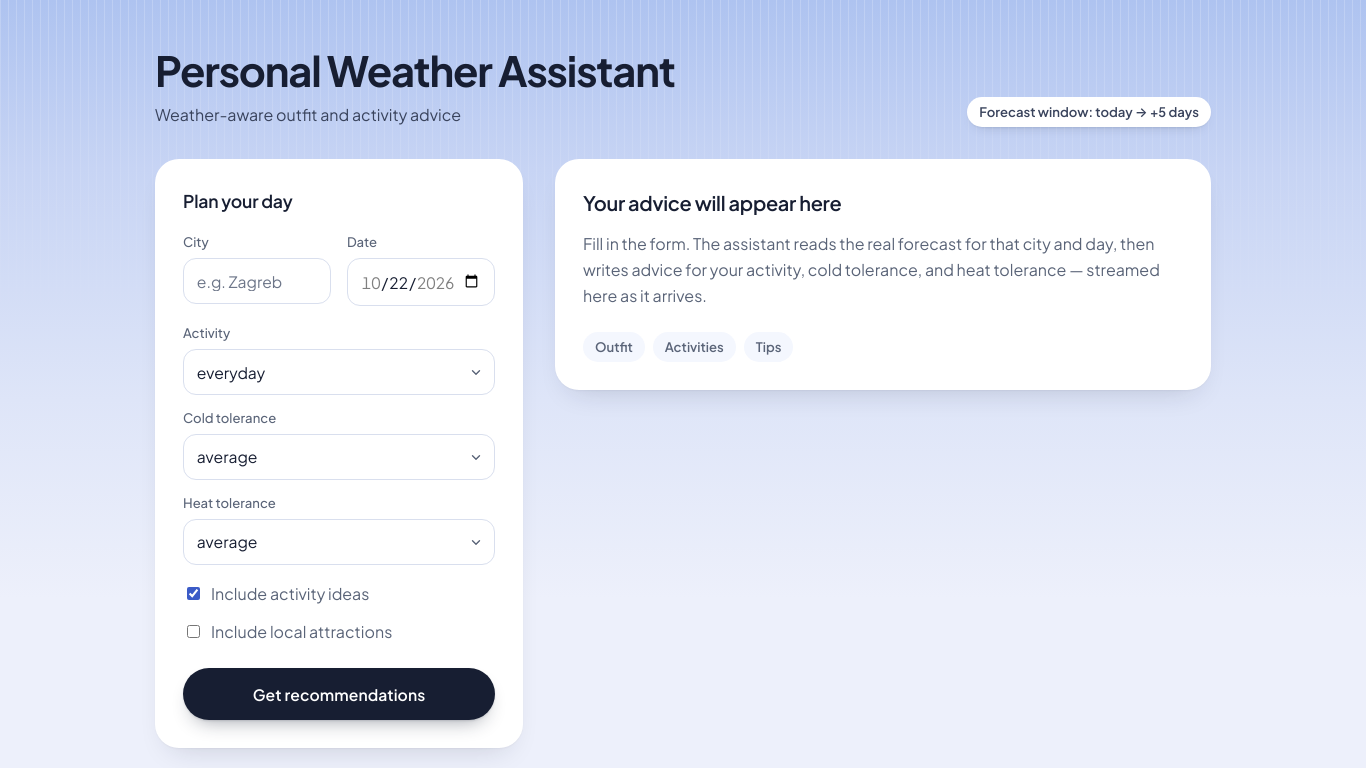
Test case: App profile chips › shows the submitted profile with the day recommendation
The image size is (1366, 768).
Type "Zagreb" into the field labelled "City" at (257, 281), box top-left (183, 258), bottom-right (331, 304)
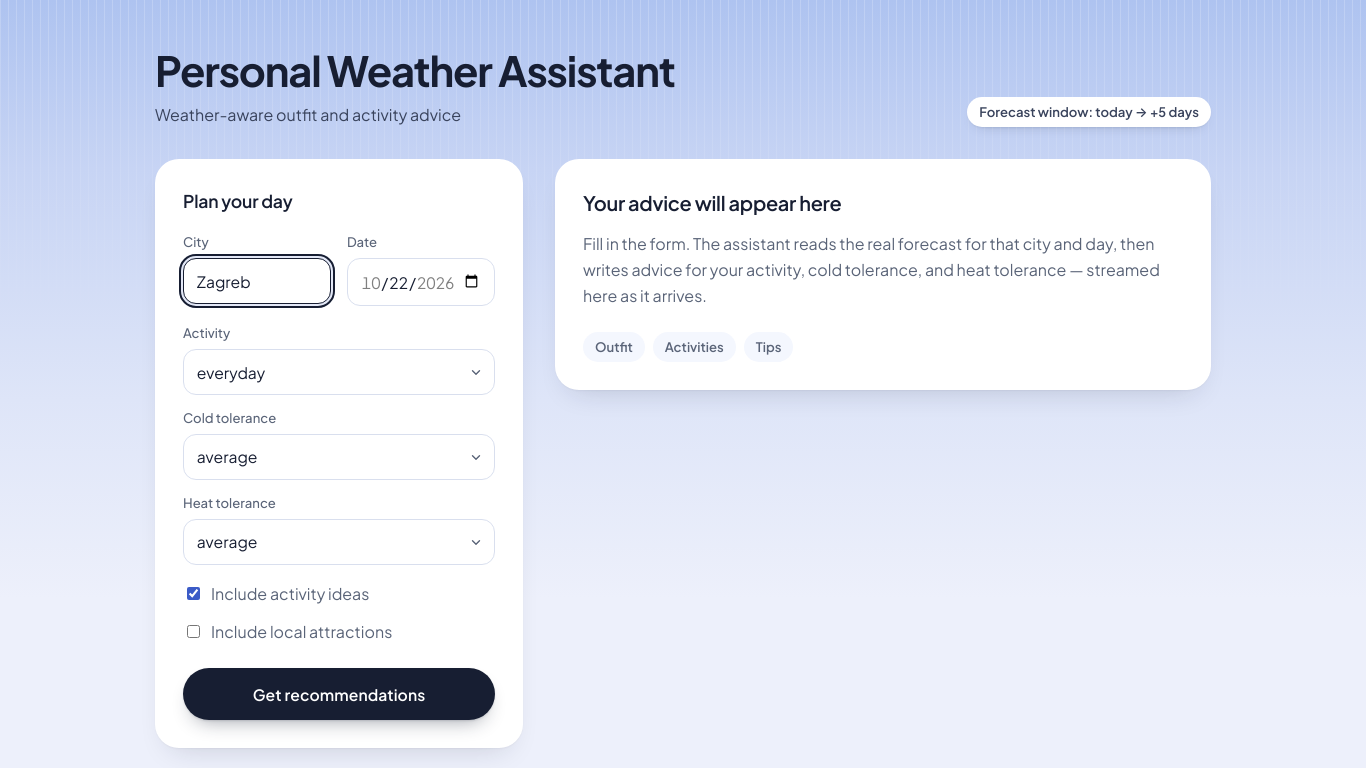
Select "tourism" in the dropdown labelled "Activity" at (339, 372), box top-left (183, 349), bottom-right (495, 395)
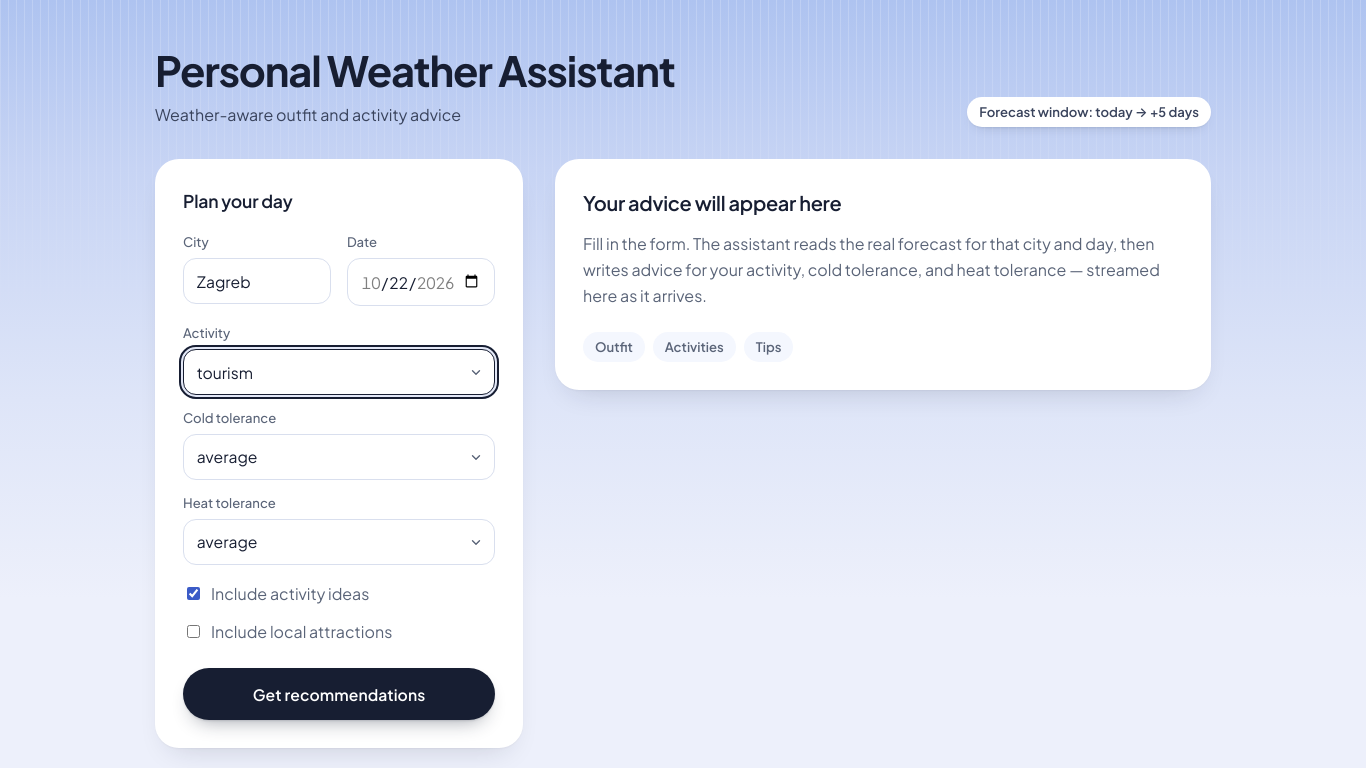
Click the button "Get recommendations" at (339, 694), box top-left (183, 668), bottom-right (495, 720)
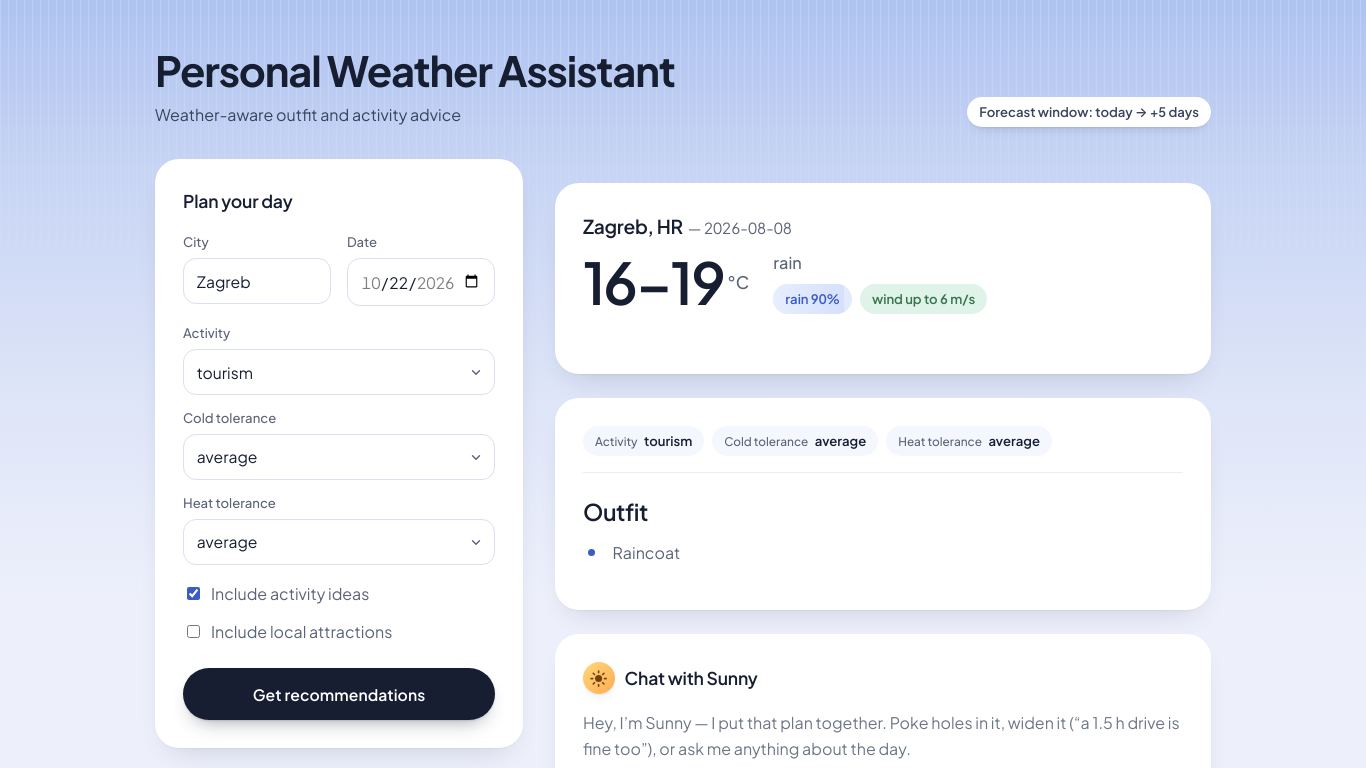
Now the list item "tourism" is shown, box top-left (644, 432), bottom-right (692, 449)
Now the number of list items "average" is 2, box top-left (712, 426), bottom-right (878, 456); top-left (886, 426), bottom-right (1052, 456)
